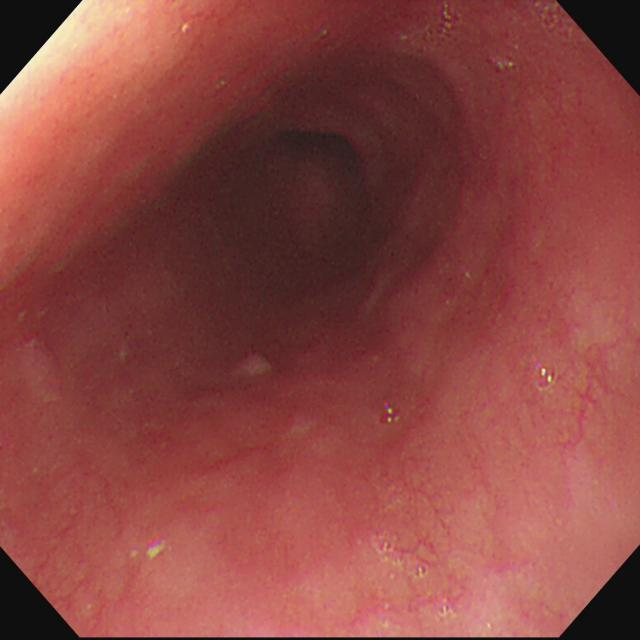E: (277, 117, 383, 186)
J: (233, 351, 272, 378)
T: (372, 531, 431, 581), (532, 356, 558, 393)
U: (148, 538, 168, 560)
